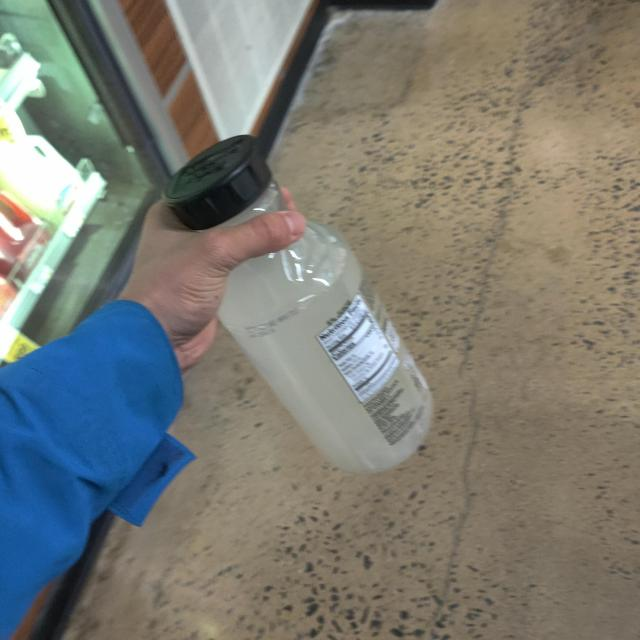Juice: (154, 134, 466, 482)
